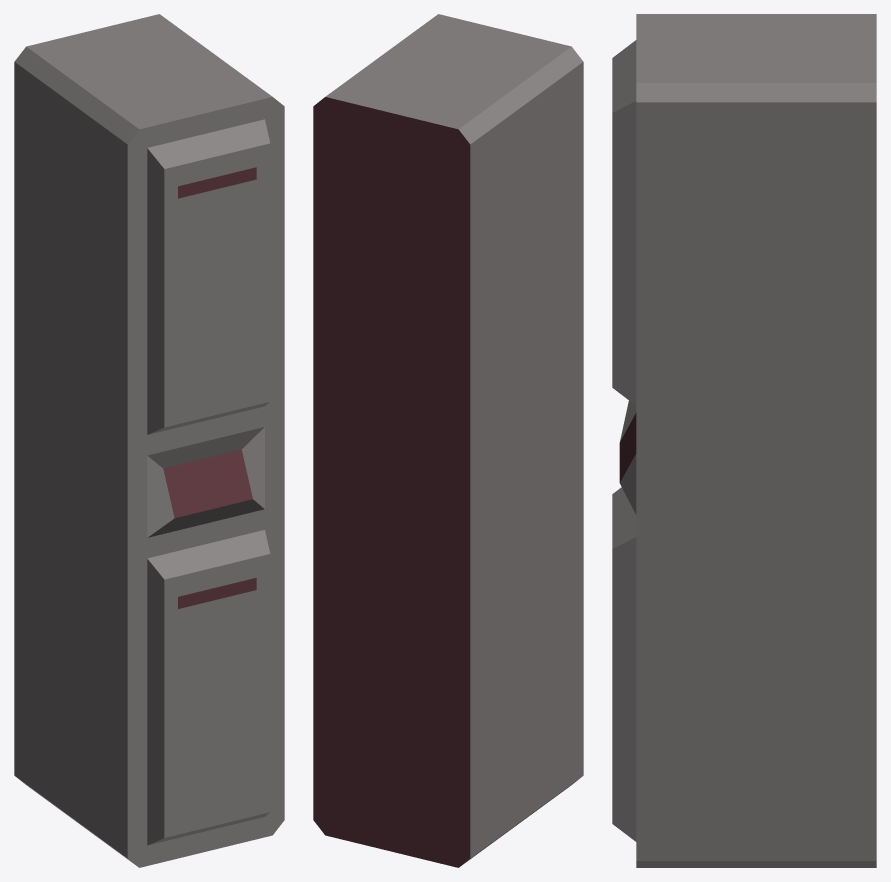
Rendered from scifi-locker.fbx.
The picture shows the model from 3 angles, left to right: view 1: azimuth 30°, elevation 25°; view 2: azimuth 150°, elevation 25°; view 3: azimuth 270°, elevation 25°; orthographic projection. The views are drawn at different scales.
Visible parts, largest first — view 1: scifi-locker; view 2: scifi-locker; view 3: scifi-locker.
Part boxes in pixels (box(x1,y1,x2,y2)): scifi-locker: box(14, 14, 284, 867); scifi-locker: box(313, 14, 583, 867); scifi-locker: box(612, 14, 876, 867).
Bounding box in the file's own units: 0.4 × 1.8 × 0.55.
